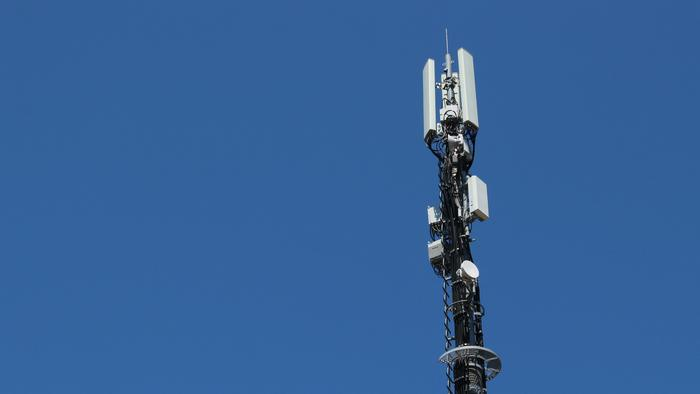a: (458, 48, 478, 126), (422, 59, 435, 139), (470, 175, 491, 216)
b: (461, 260, 480, 277)
